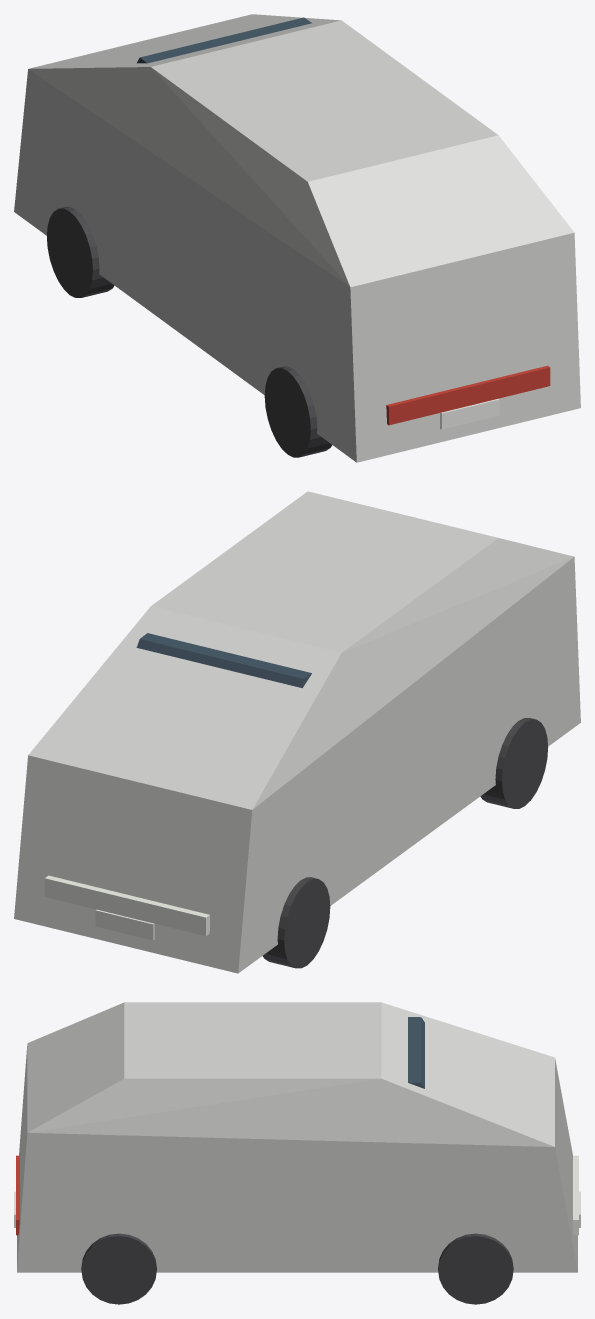
File: service_van_real3d.glb
The picture shows the model from 3 angles, top to bottom: view 1: azimuth 30°, elevation 25°; view 2: azimuth 150°, elevation 25°; view 3: azimuth 270°, elevation 25°; orthographic projection. The views are drawn at different scales.
Visible parts, largest first — view 1: body, world, cabin; view 2: body, world, cabin; view 3: body, world, cabin.
Boxes of the visible parts, box(x1,y1,x2,y2) form: body: box(14, 14, 580, 462); world: box(47, 207, 550, 457); cabin: box(137, 17, 311, 63); body: box(14, 491, 580, 973); world: box(44, 718, 548, 968); cabin: box(136, 633, 311, 688); body: box(17, 1002, 577, 1272); world: box(14, 1155, 580, 1304); cabin: box(408, 1017, 424, 1088).
Bounding box in the file's own units: 2.14 × 2.28 × 5.41.
